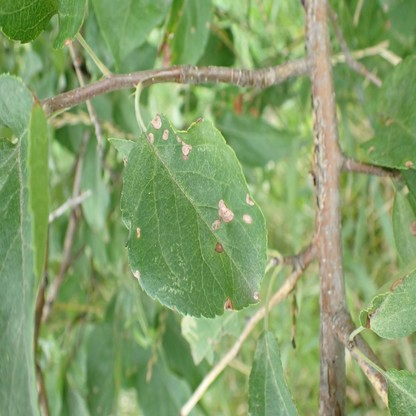frogeye: (212, 199, 234, 229), (176, 135, 192, 158), (151, 114, 162, 131), (223, 297, 232, 310), (246, 192, 254, 206), (409, 220, 416, 236), (214, 242, 223, 253), (242, 214, 251, 224), (163, 128, 169, 140), (148, 133, 154, 143), (253, 291, 259, 301), (135, 270, 141, 280), (64, 38, 71, 46), (405, 161, 413, 168), (136, 227, 141, 237)
